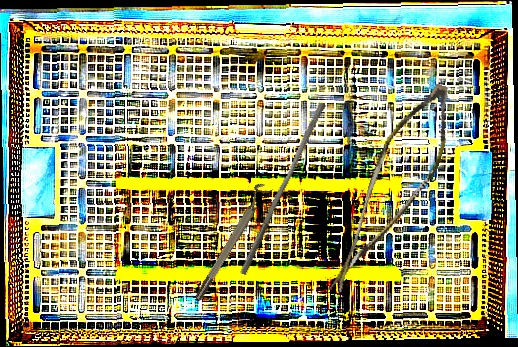Fixation Ring: (188, 180, 273, 303)
Micro Scissor: (326, 70, 462, 314)
Pusher: (239, 99, 327, 279)
